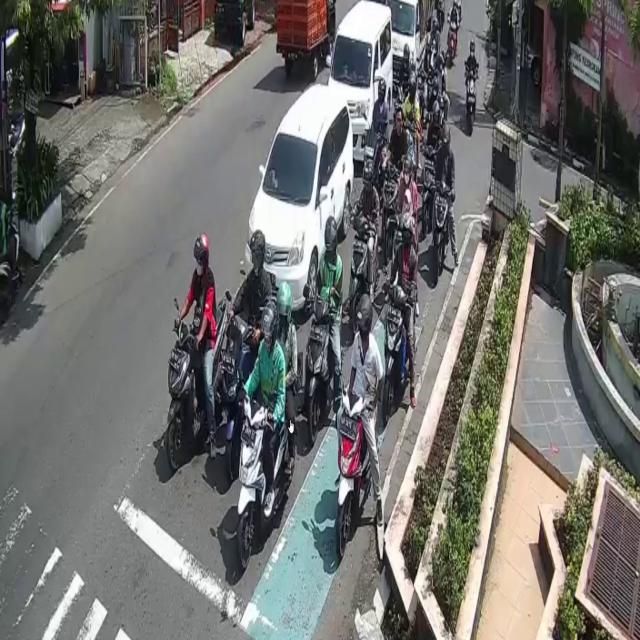bus: (163, 297, 234, 474), (237, 396, 290, 568), (337, 387, 372, 555), (305, 298, 333, 447), (383, 290, 412, 429), (352, 213, 377, 304), (434, 184, 453, 276), (467, 72, 476, 132)
motorcycle: (243, 81, 354, 319), (329, 0, 394, 162), (278, 0, 335, 79), (388, 0, 427, 73)
